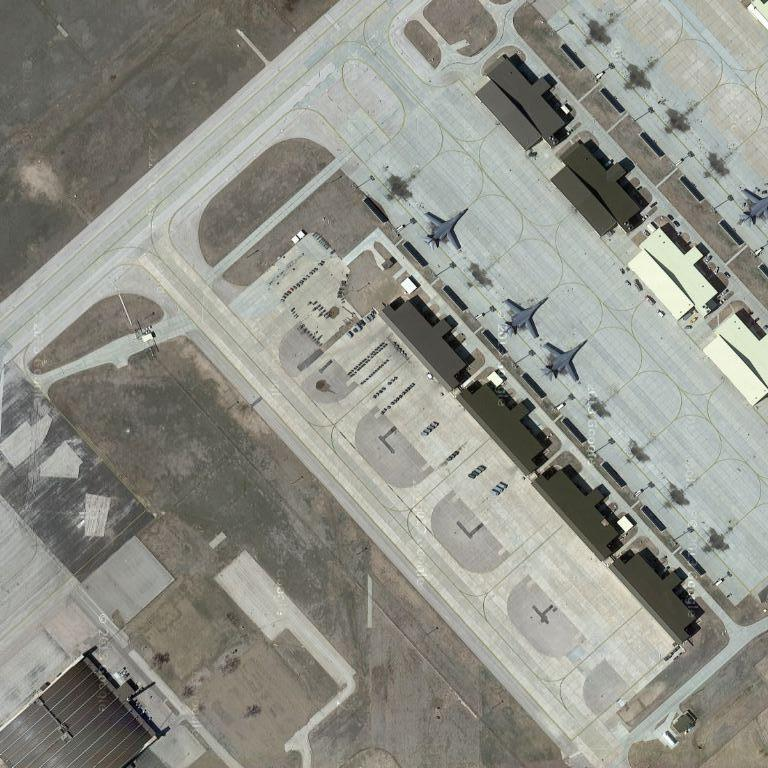B-1B: (538, 338, 590, 384), (502, 293, 551, 341), (425, 205, 469, 250)
